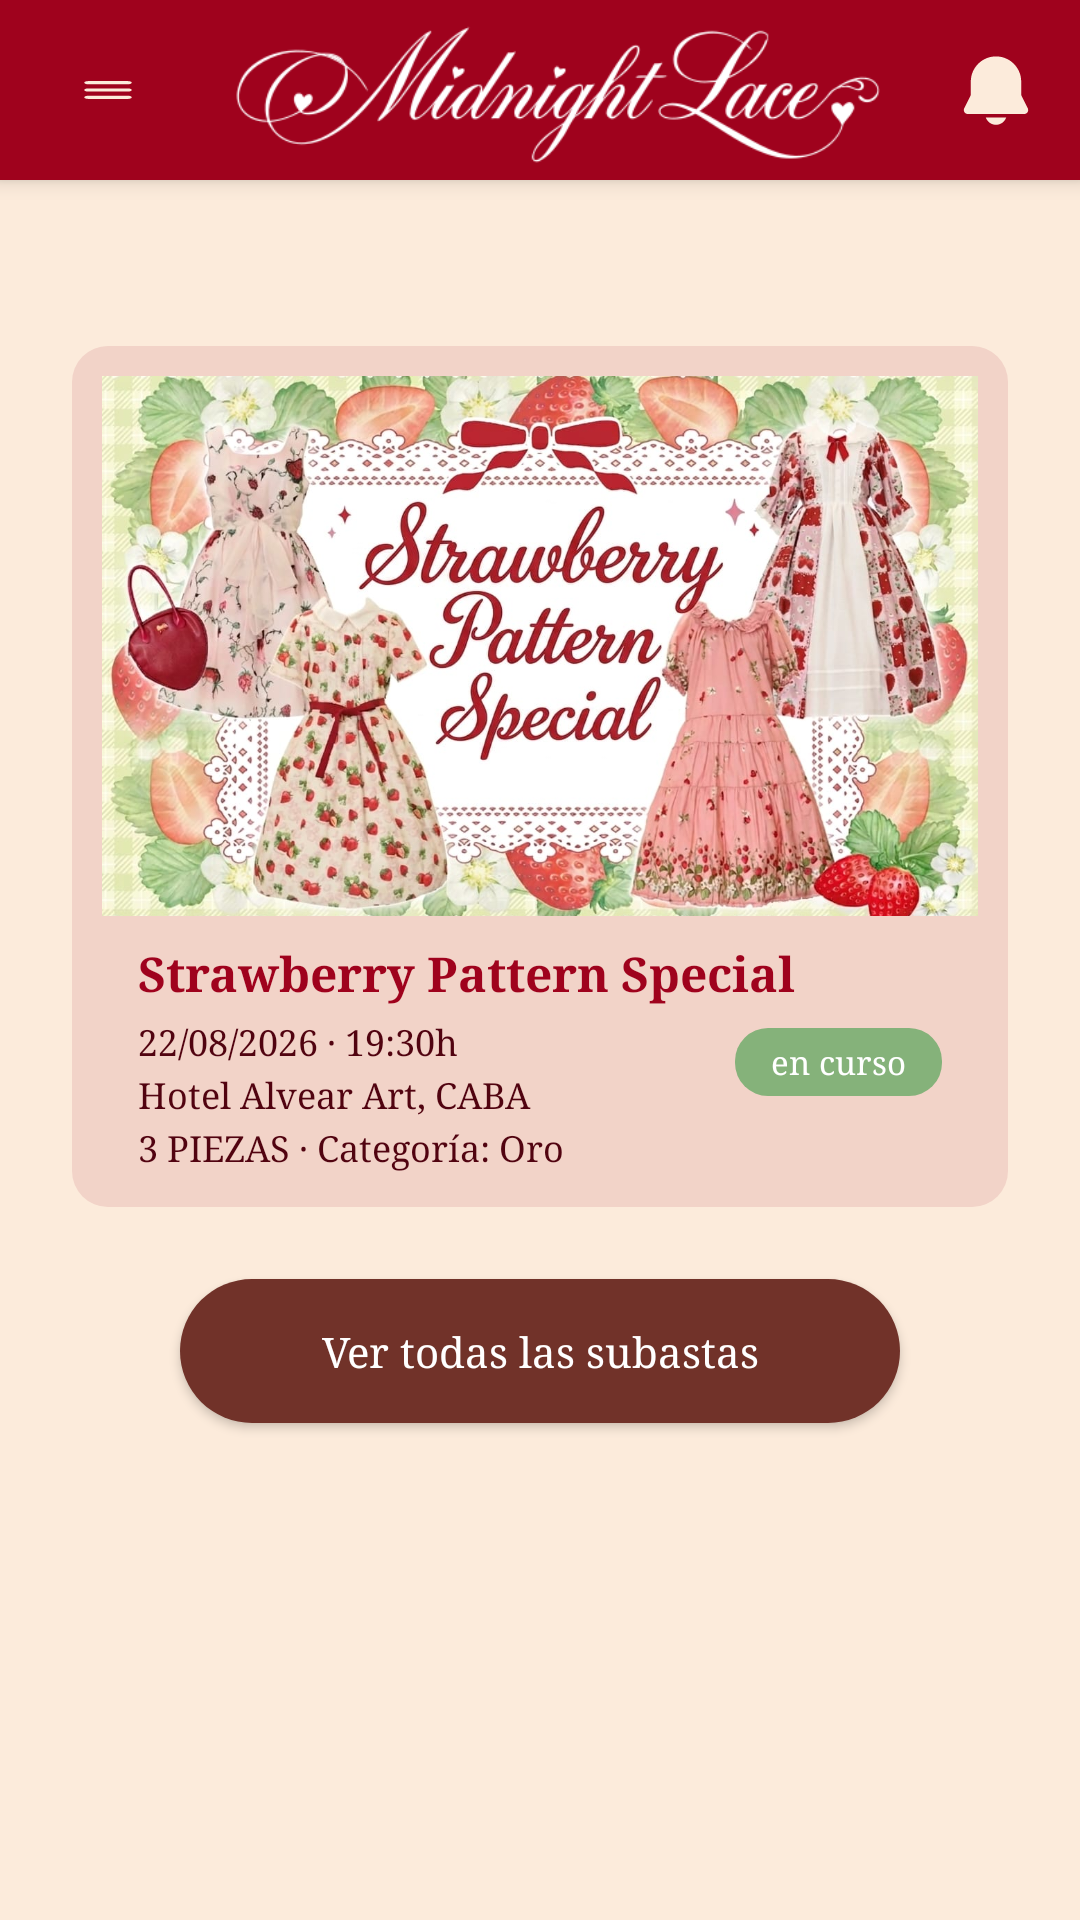

Point at icon controls on the screen. Image size 1080w x 1920h, points as [x,y].
bell: [996,90]
menu: [108,90]
